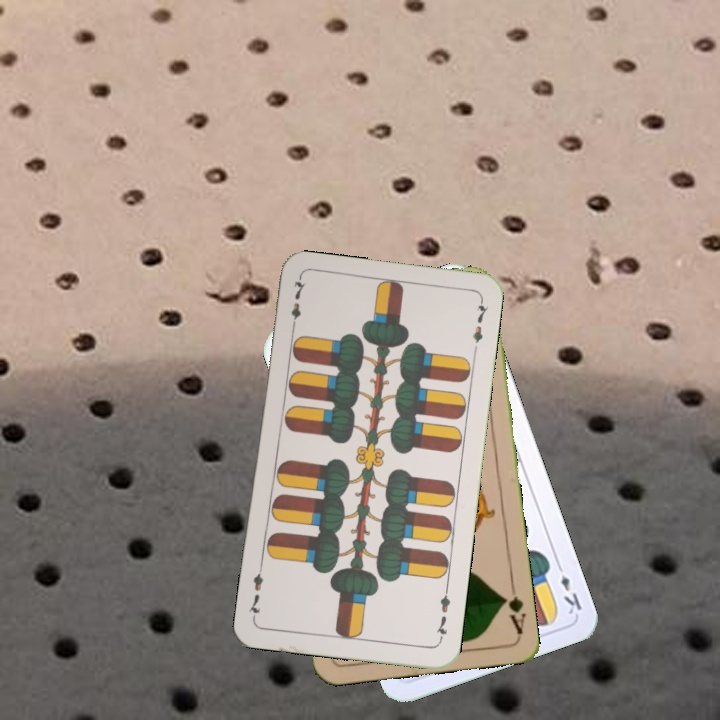E7: (432, 585, 453, 644), (287, 275, 308, 334)
EK: (552, 558, 585, 617)
GA: (498, 578, 528, 637)
